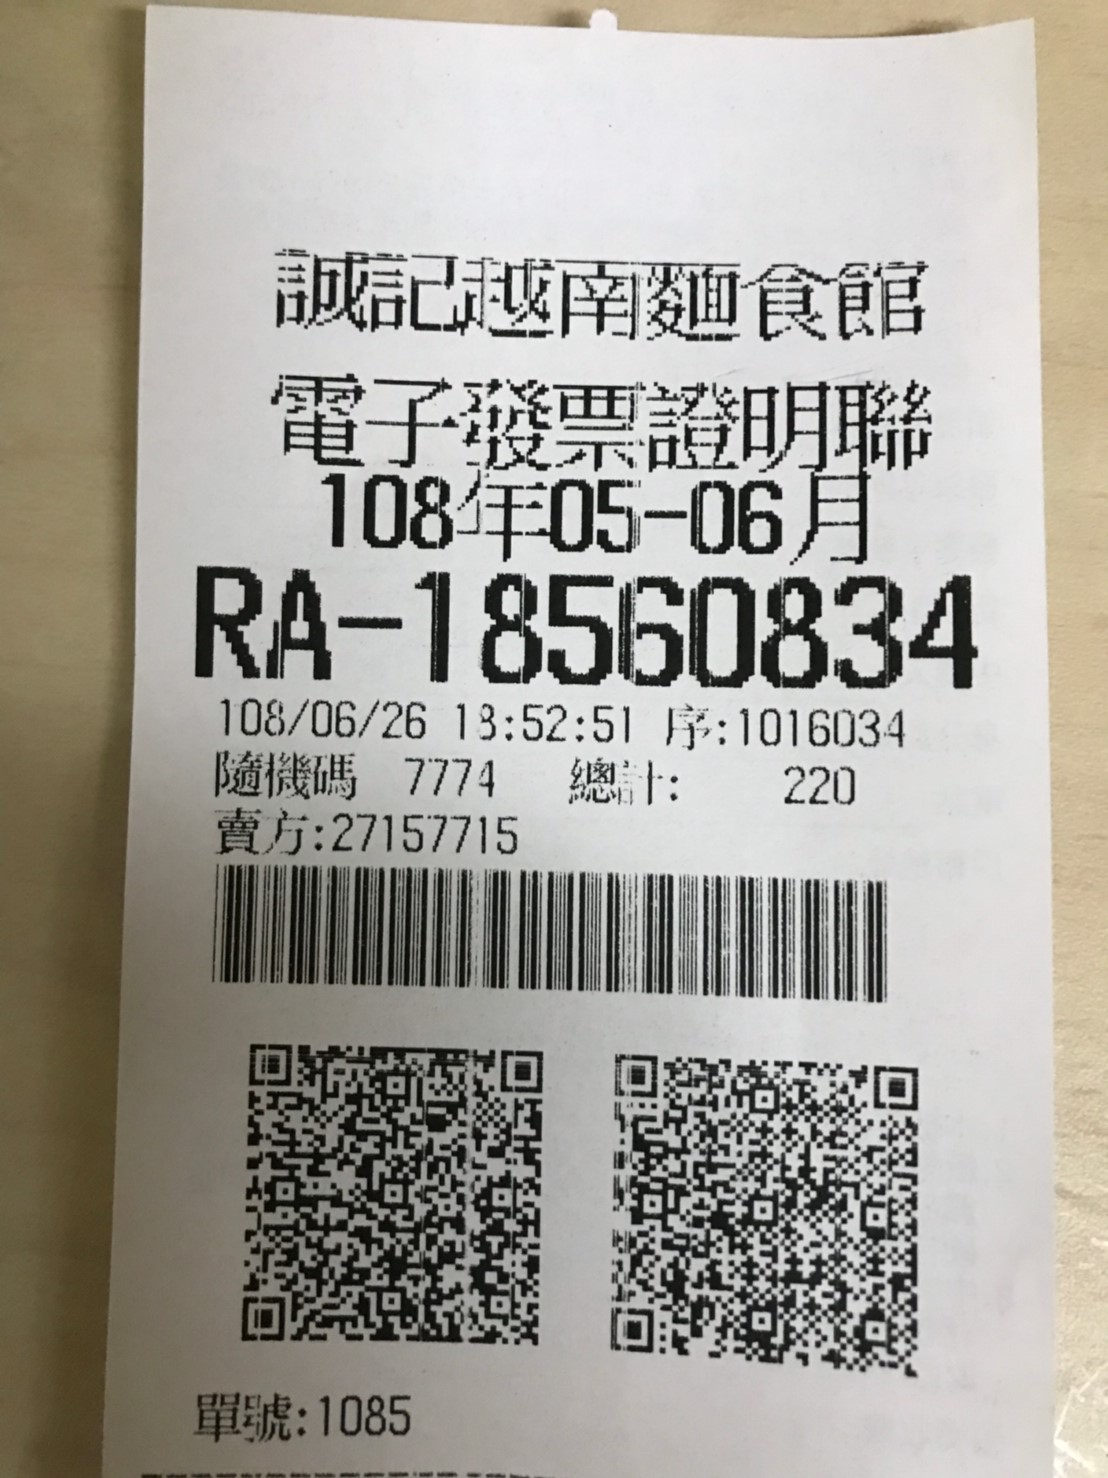Date_New: (318, 469, 876, 567)
Number_New: (411, 567, 980, 696)
